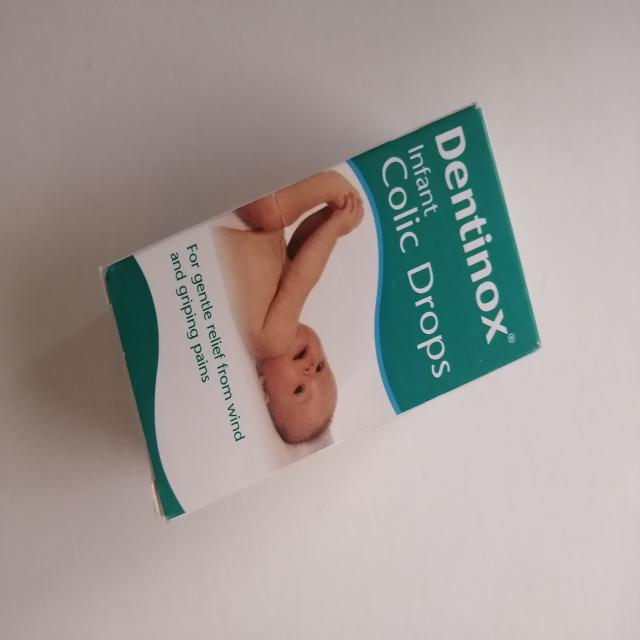Medicine: (98, 96, 540, 522)
